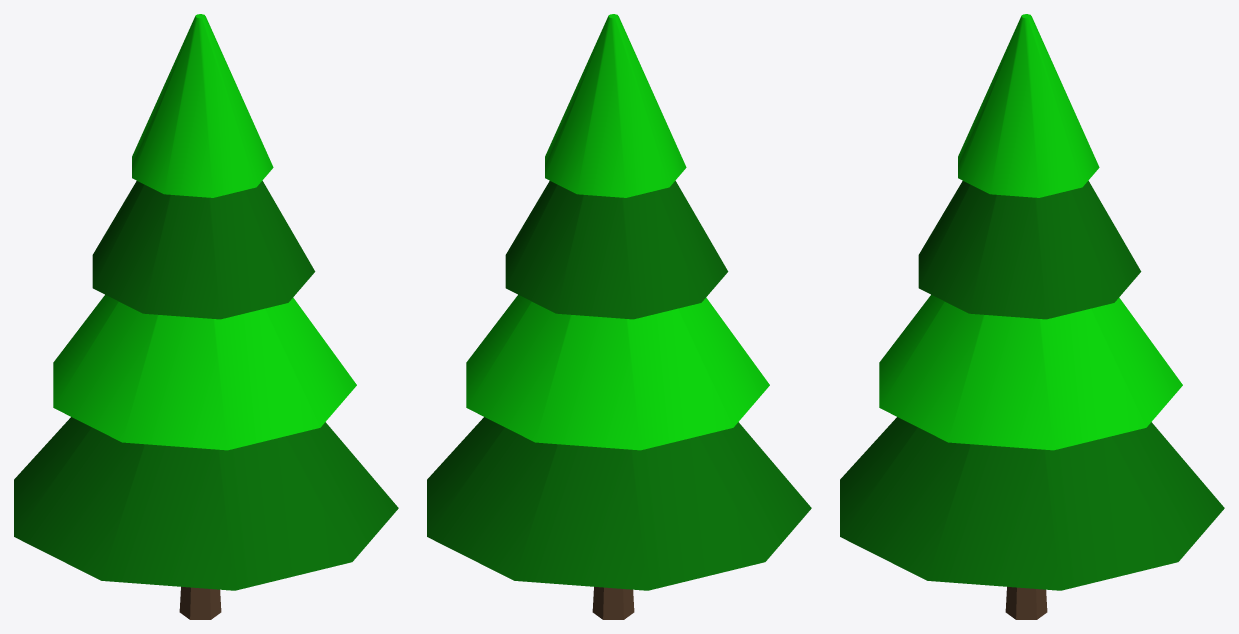
Rendered from Tree_Pine.fbx.
3 views of the same model, side by side, from view 1: azimuth 30°, elevation 25°; view 2: azimuth 150°, elevation 25°; view 3: azimuth 270°, elevation 25° (orthographic).
Visible parts, largest first — view 1: Tree_Pine; view 2: Tree_Pine; view 3: Tree_Pine.
Boxes of the visible parts, <box> form: Tree_Pine: <box>14,14,398,619</box>; Tree_Pine: <box>427,14,811,619</box>; Tree_Pine: <box>840,14,1224,619</box>.
Bounding box in the file's own units: 3.74 × 6.3 × 3.69.
